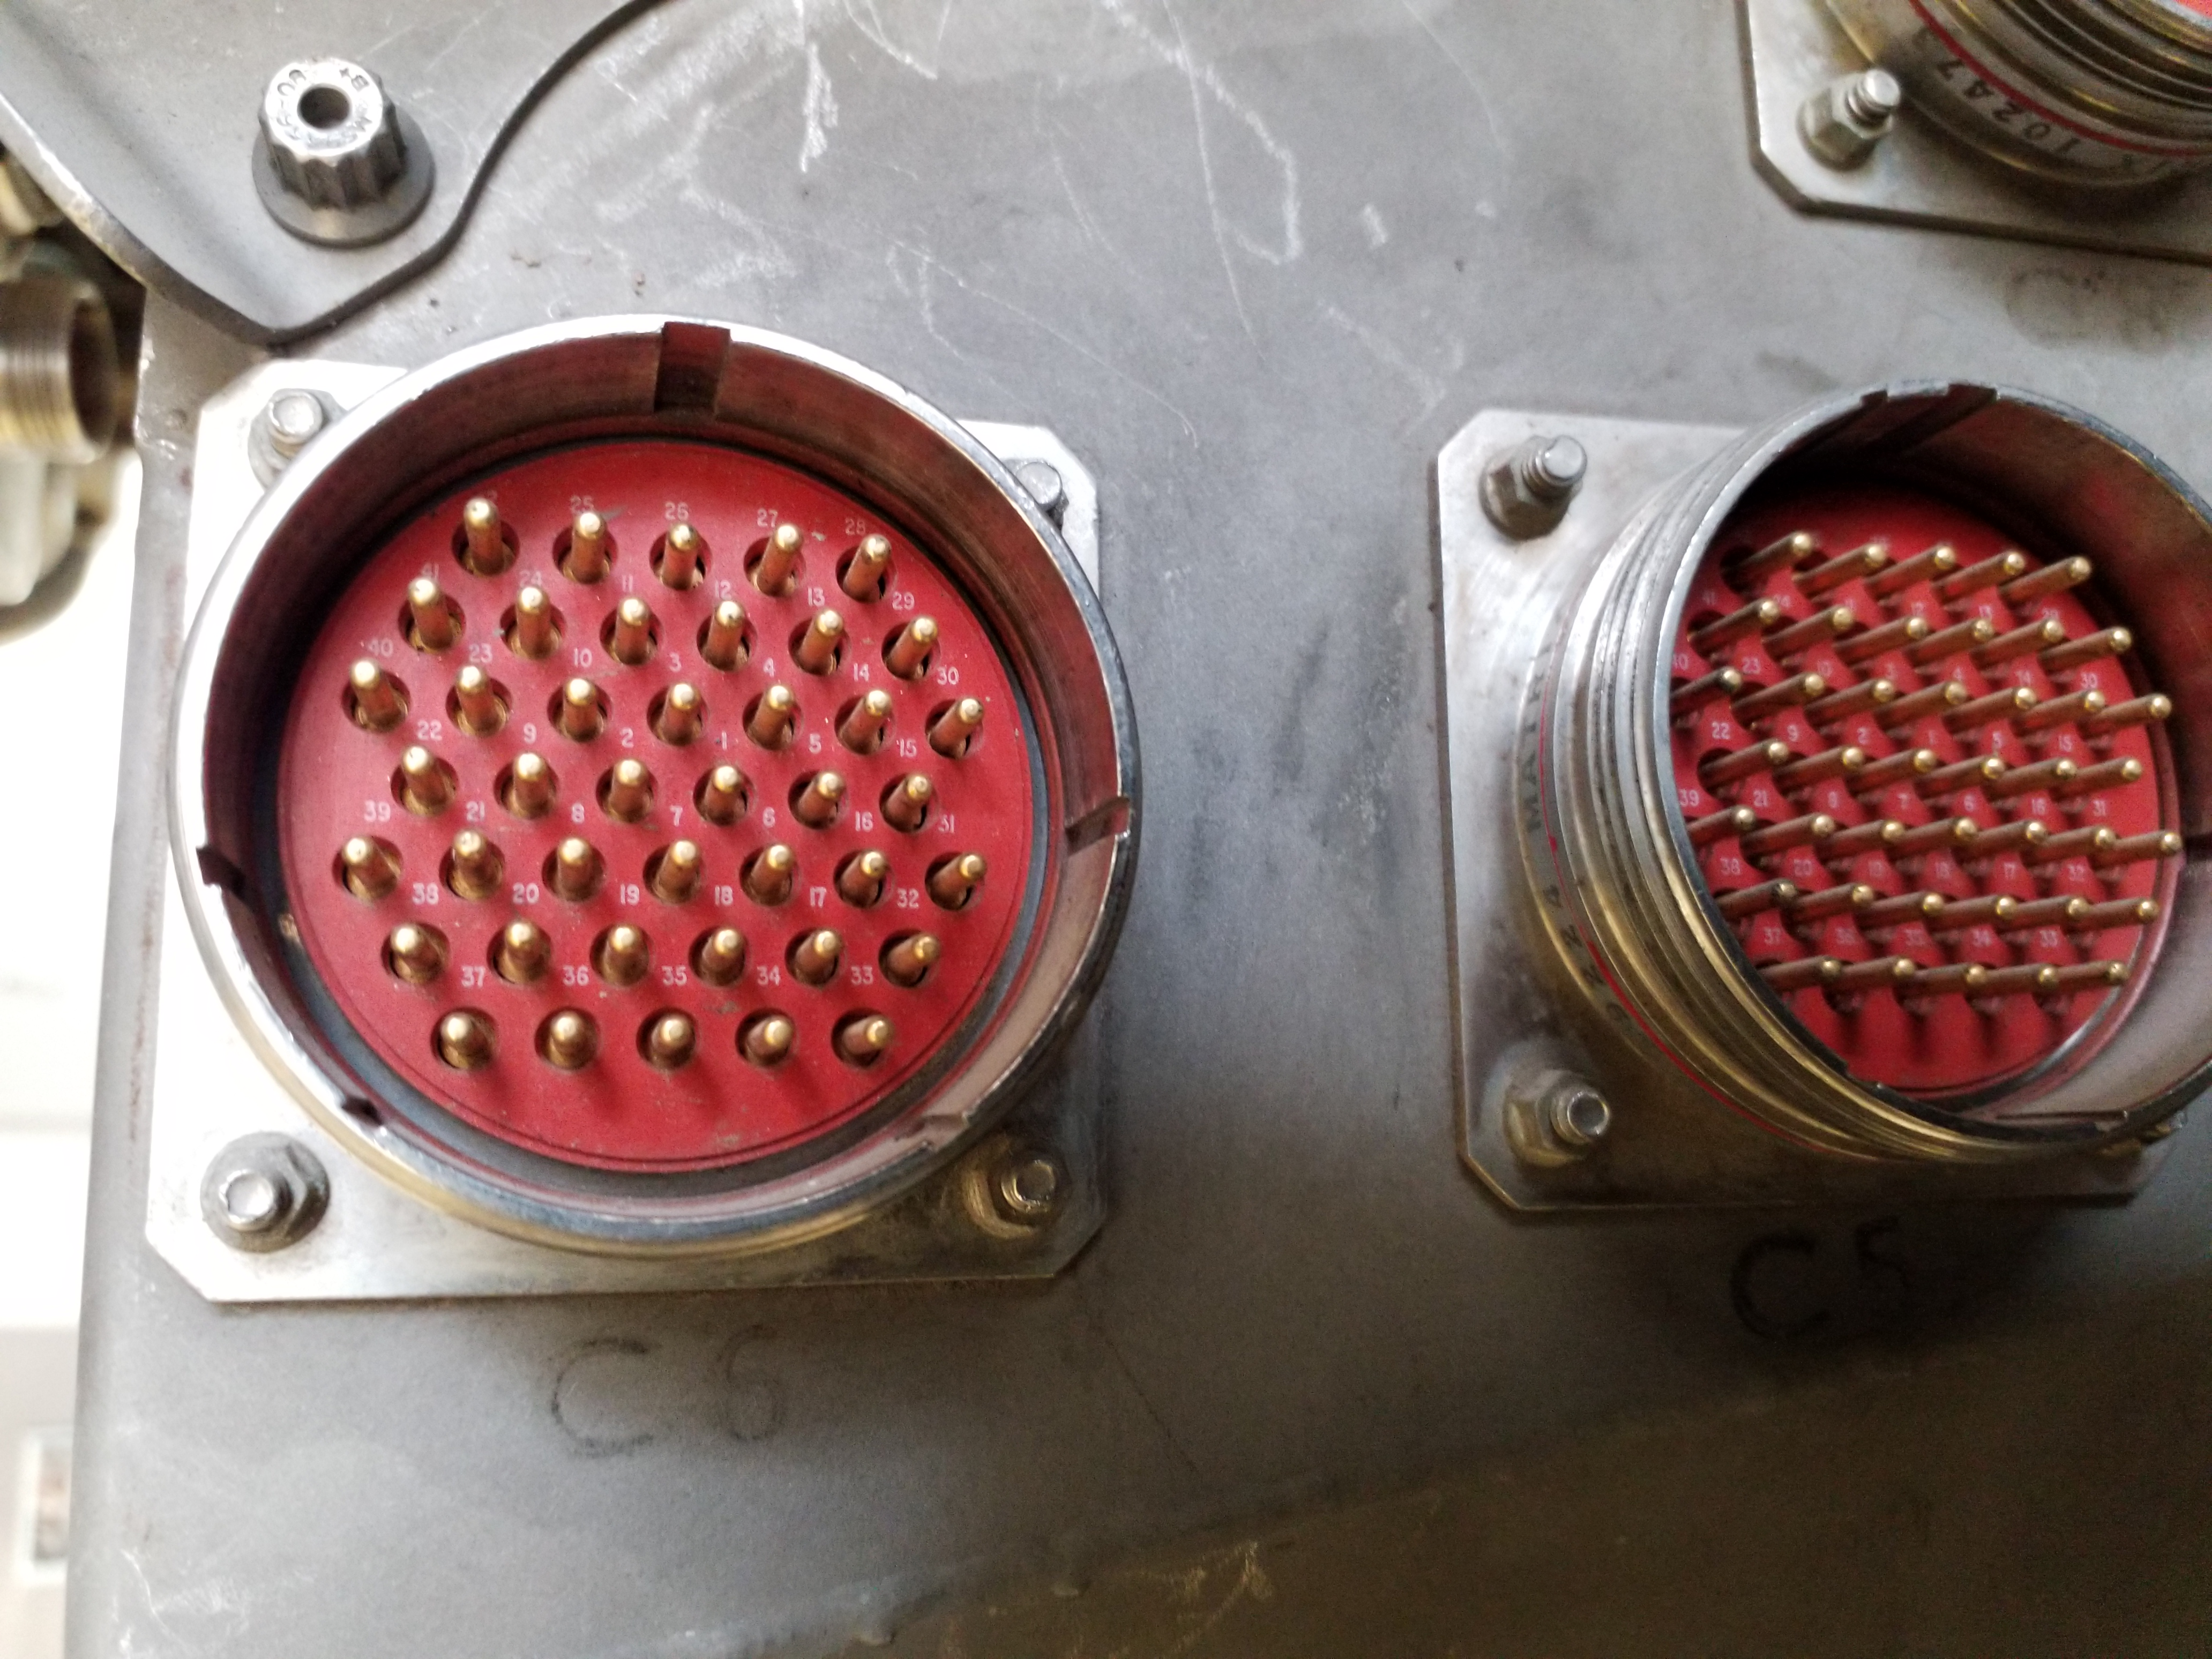outlet: (169, 293, 1150, 1260), (1606, 354, 2209, 1148)
